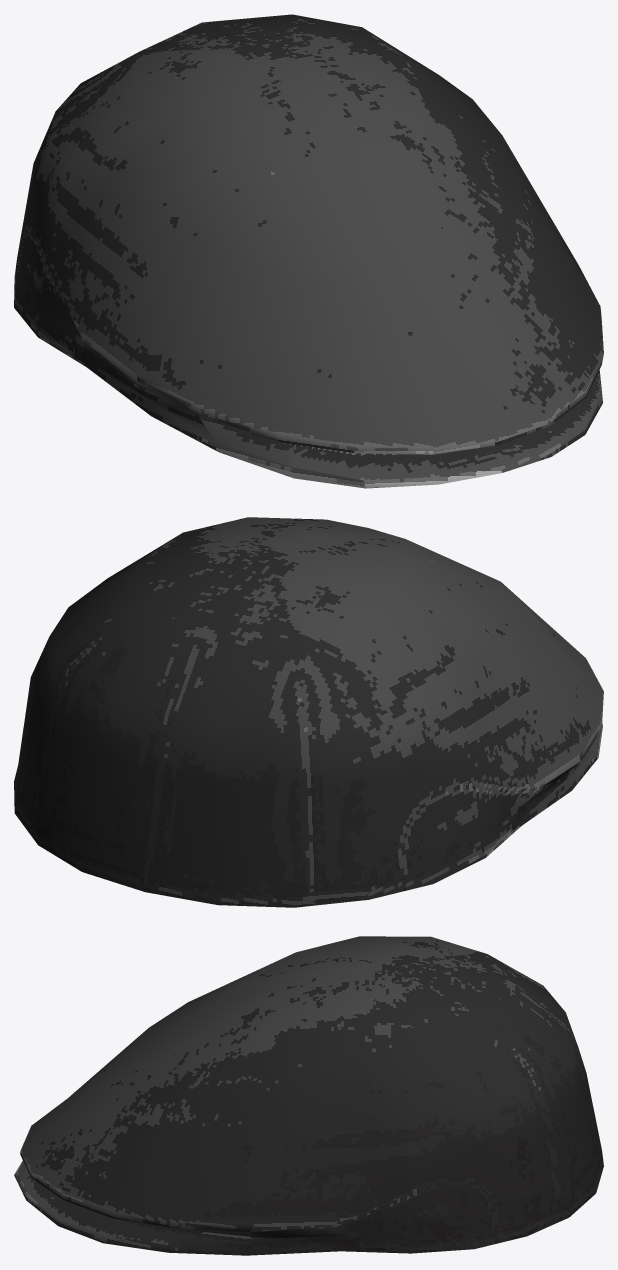
Rendered from wear_peaked.glb.
3 renders of one model, top to bottom at view 1: azimuth 30°, elevation 25°; view 2: azimuth 150°, elevation 25°; view 3: azimuth 270°, elevation 25°, orthographic. The views are drawn at different scales.
Visible parts, largest first — view 1: mesh; view 2: mesh; view 3: mesh.
Boxes of the visible parts, x1,y1,x2,y2 form: mesh: [14, 14, 603, 488]; mesh: [14, 517, 603, 907]; mesh: [14, 936, 603, 1255].
Bounding box in the file's own units: 0.2184 × 0.12 × 0.2963.
Materials: 1 (1 with a texture image).
